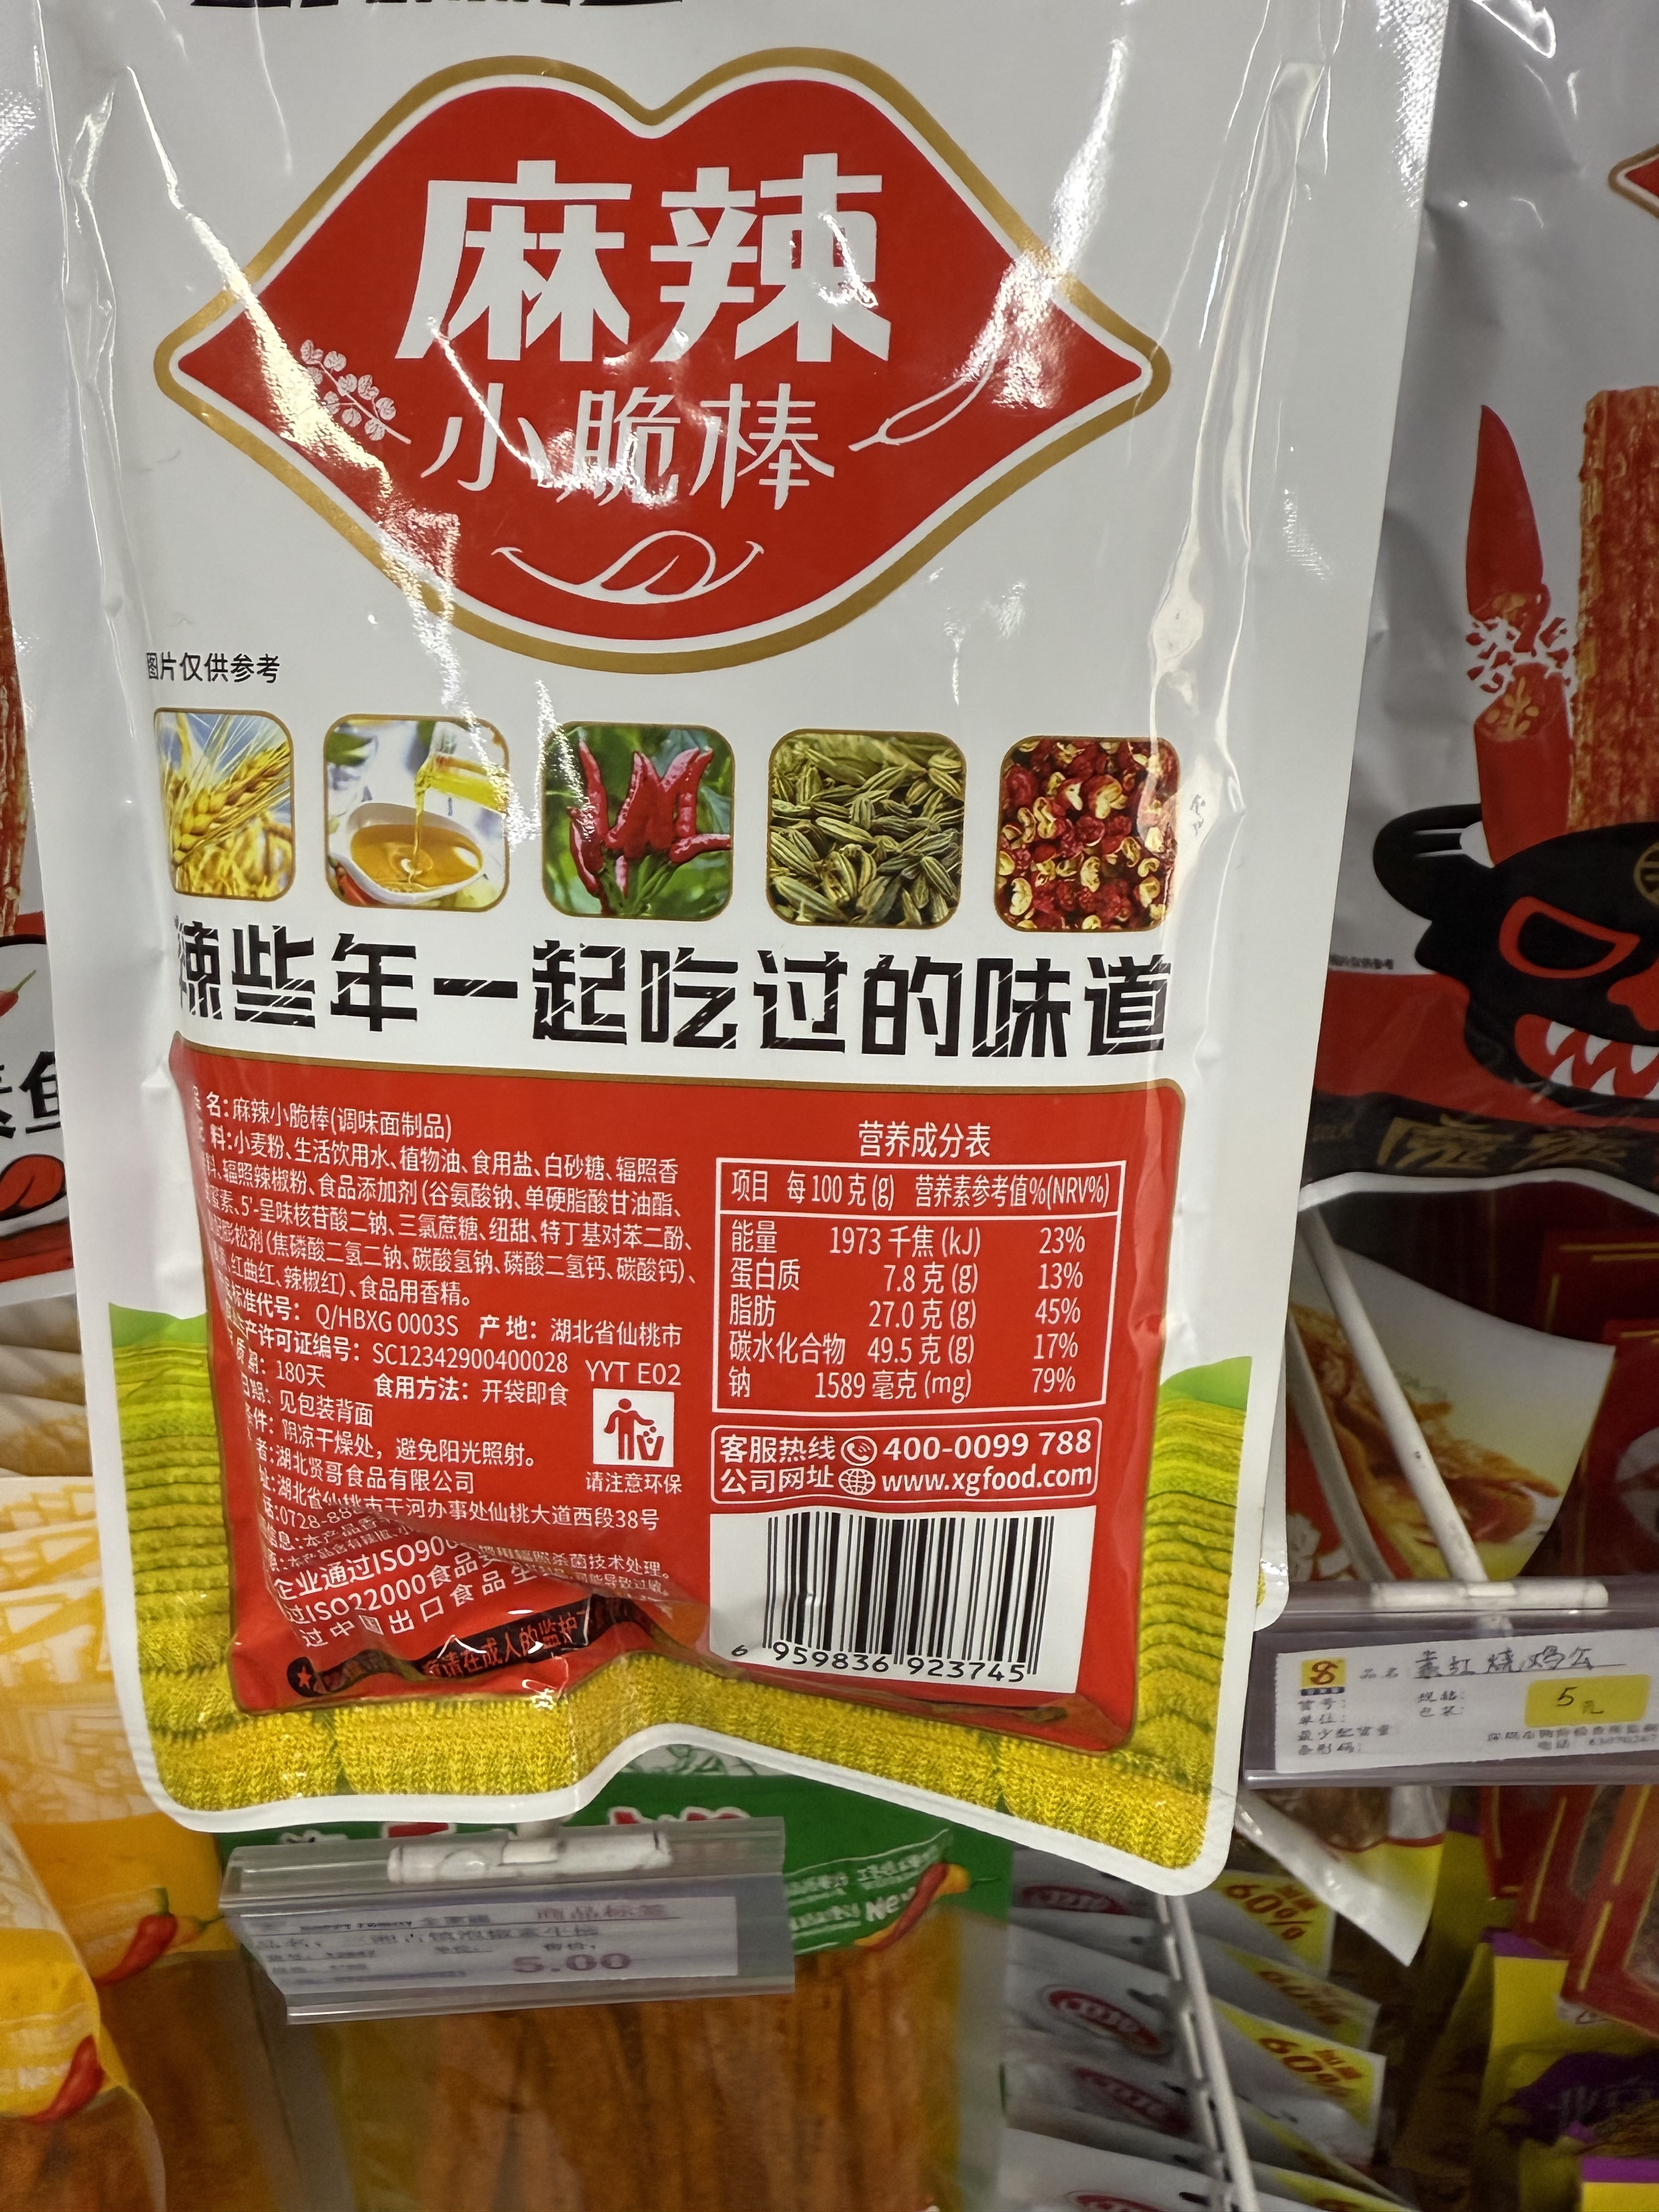bar: (755, 1505, 1060, 1679)
